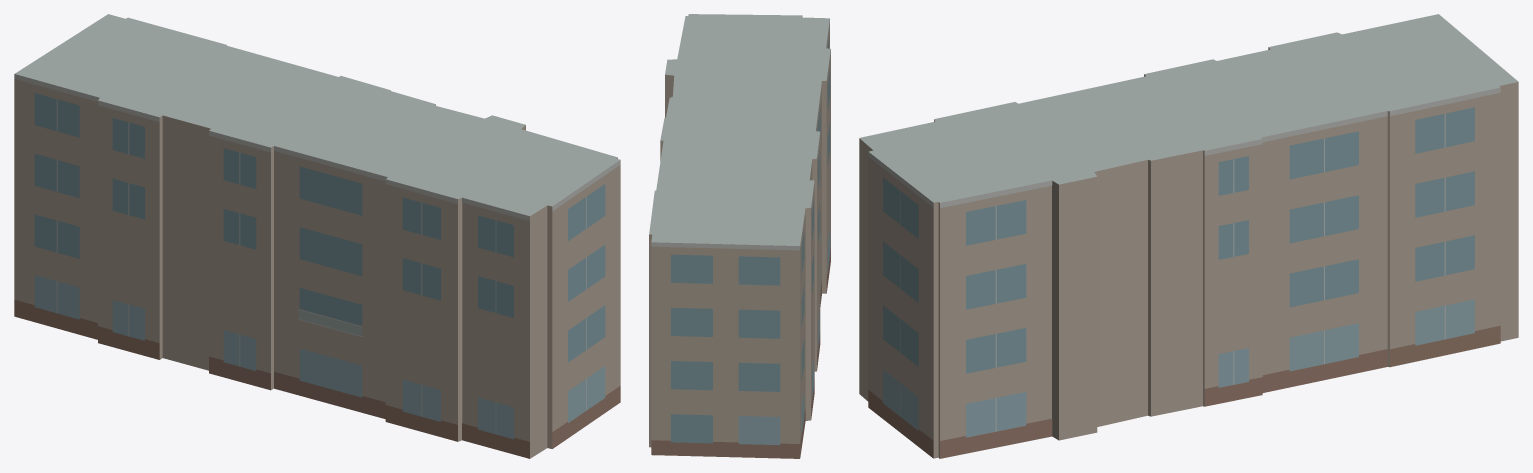
The model's file is survey-upis-32633728.glb.
The picture shows the model from 3 angles, left to right: view 1: azimuth 30°, elevation 25°; view 2: azimuth 150°, elevation 25°; view 3: azimuth 270°, elevation 25°; orthographic projection. The views are drawn at different scales.
Visible parts, largest first — view 1: survey-upis-32633728.tmp; view 2: survey-upis-32633728.tmp; view 3: survey-upis-32633728.tmp.
Boxes of the visible parts, bbox=[...] form: survey-upis-32633728.tmp: bbox=[14, 14, 620, 458]; survey-upis-32633728.tmp: bbox=[649, 14, 830, 458]; survey-upis-32633728.tmp: bbox=[859, 14, 1518, 458].
Size of the model in its own units: 19.17 by 12.1 by 28.27.
